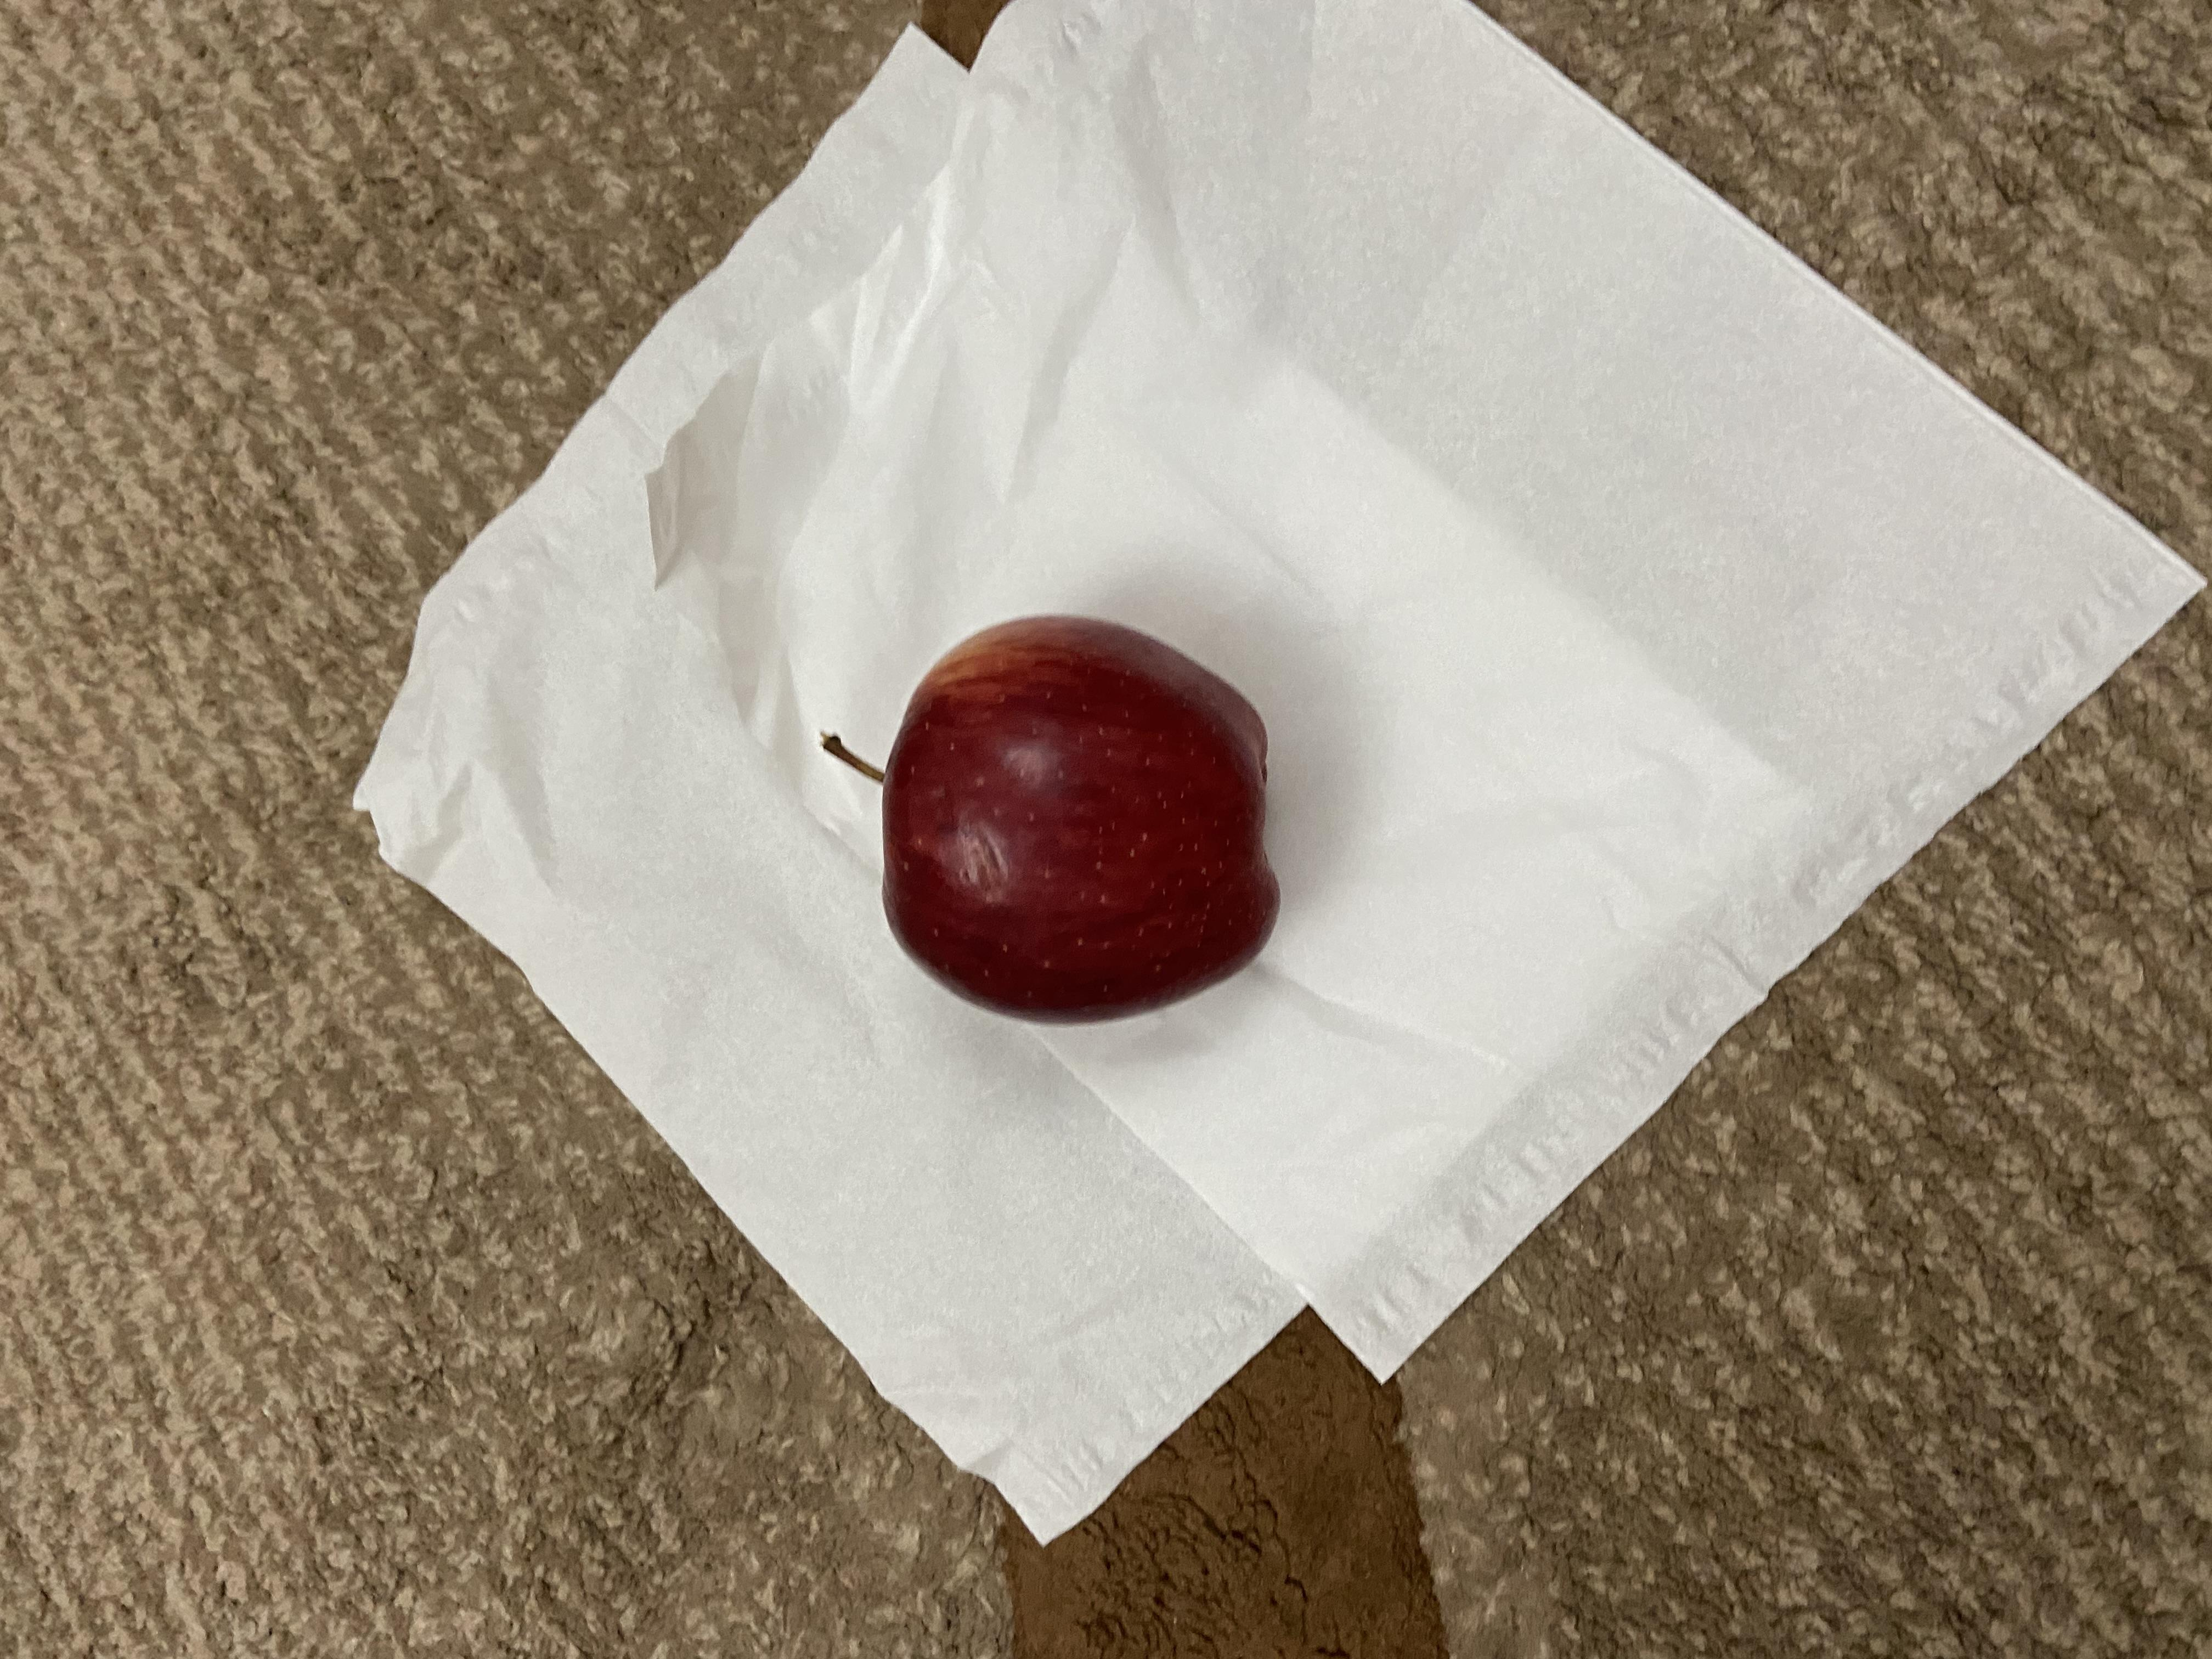Apple: (815, 605, 1456, 971)
